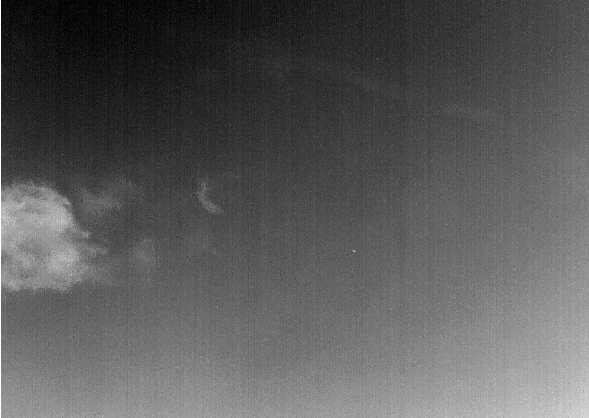dim target: (351, 247, 357, 254)
